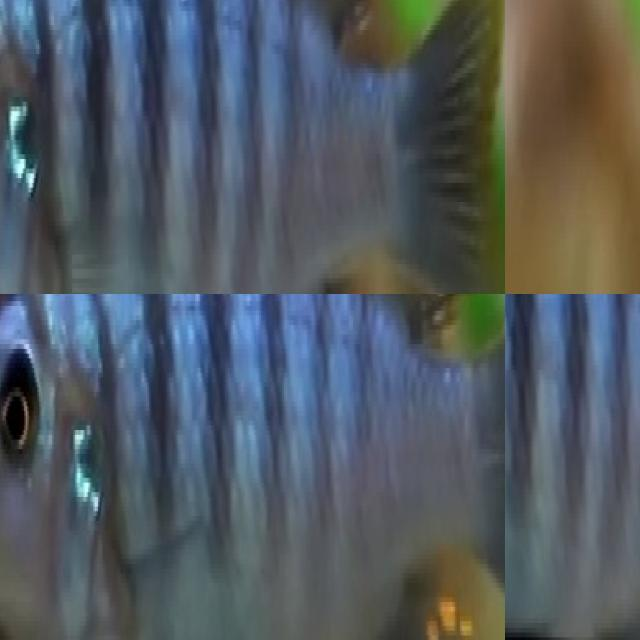fish: (0, 294, 505, 640), (0, 0, 505, 294), (505, 294, 640, 640)
